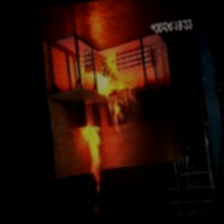fire: (63, 109, 119, 198), (91, 48, 143, 126)
